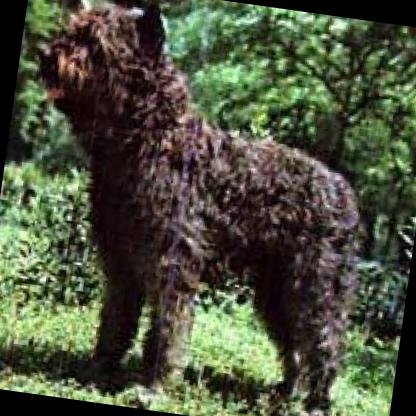Bouvier_des_Flandres: (0, 0, 388, 416)
